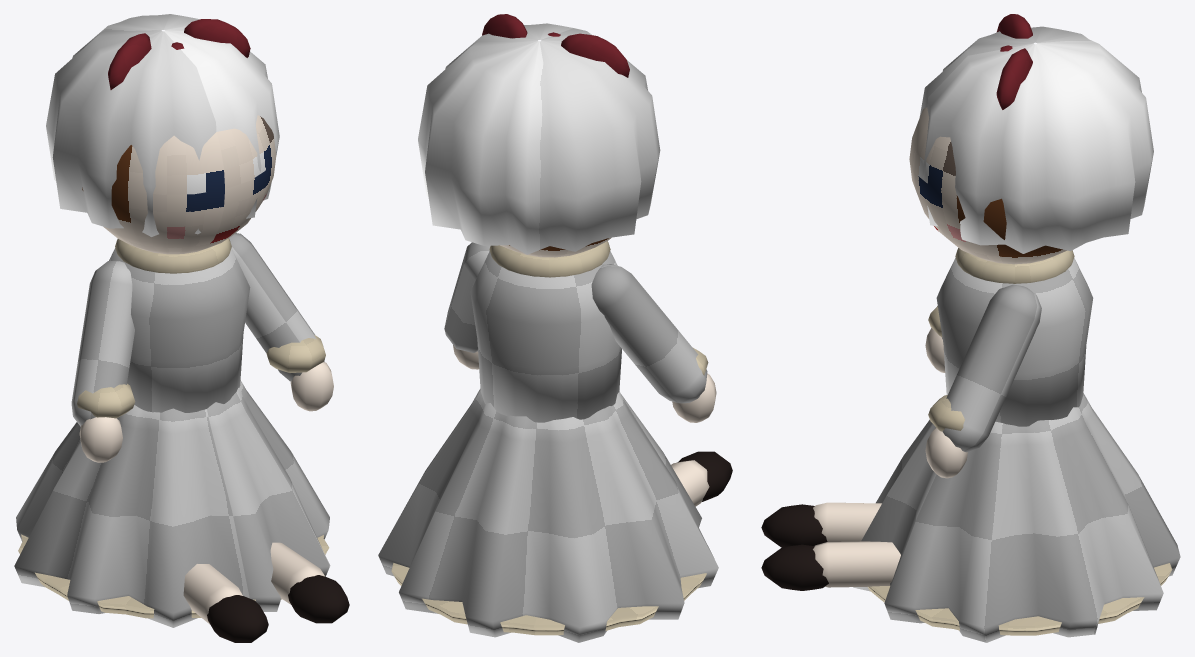
Rendered from doll.glb.
The picture shows the model from 3 angles, left to right: view 1: azimuth 30°, elevation 25°; view 2: azimuth 150°, elevation 25°; view 3: azimuth 270°, elevation 25°; orthographic projection. The views are drawn at different scales.
Parts seen in each view (by area): view 1: dyn_velvet_variant, doll, dyn_color_tint; view 2: dyn_velvet_variant, dyn_color_tint, doll; view 3: dyn_velvet_variant, dyn_color_tint, doll.
Part boxes in pixels (<box>): dyn_velvet_variant: <box>14,233,330,627</box>; doll: <box>18,19,349,642</box>; dyn_color_tint: <box>46,14,279,236</box>; dyn_velvet_variant: <box>378,242,718,642</box>; dyn_color_tint: <box>418,23,660,254</box>; doll: <box>391,14,732,635</box>; dyn_velvet_variant: <box>853,258,1180,642</box>; dyn_color_tint: <box>919,26,1153,253</box>; doll: <box>761,14,1172,635</box>.
Bounding box in the file's own units: 0.1984 × 0.3512 × 0.2464.
Materials: 7 (5 with a texture image).
